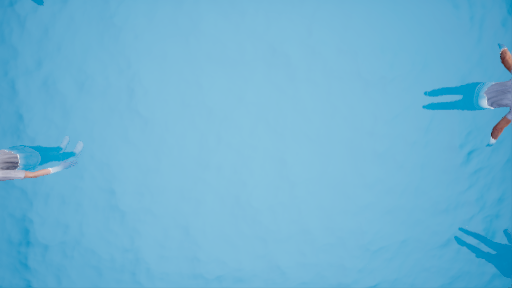person: (414, 50, 512, 146), (2, 137, 96, 185)
